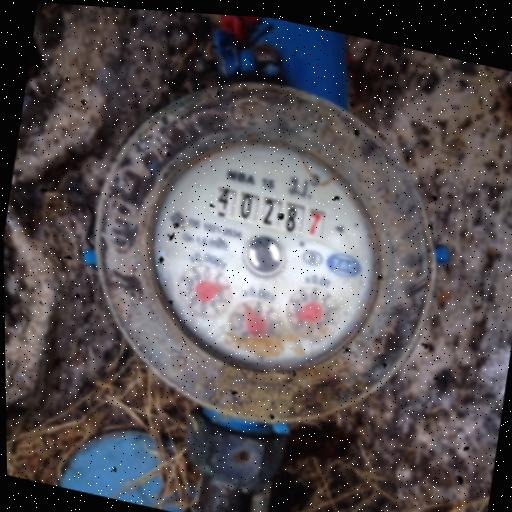0: (238, 193, 260, 221)
2: (260, 196, 280, 223)
4: (214, 188, 236, 216)
7: (307, 209, 326, 236)
8: (283, 203, 306, 232)
border_water_meter_number: (206, 180, 334, 244)
